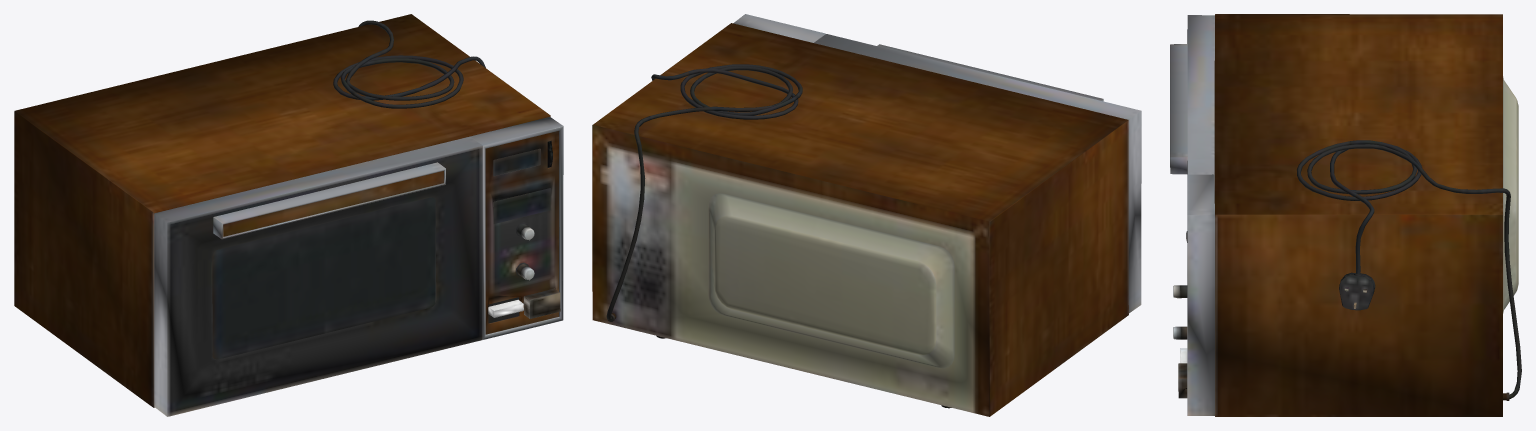
Rendered from th_mikrowelle.glb.
The picture shows the model from 3 angles, left to right: view 1: azimuth 30°, elevation 25°; view 2: azimuth 150°, elevation 25°; view 3: azimuth 270°, elevation 25°; orthographic projection. The views are drawn at different scales.
Visible parts, largest first — view 1: vintage_microwave; view 2: vintage_microwave; view 3: vintage_microwave.
Boxes of the visible parts, x1=… form: vintage_microwave: x1=14, y1=14, x2=563, y2=416; vintage_microwave: x1=592, y1=14, x2=1141, y2=416; vintage_microwave: x1=1170, y1=14, x2=1521, y2=416.
Size of the model in its own units: 1.07 by 0.5258 by 0.7456.
2 materials, 2 textured.
